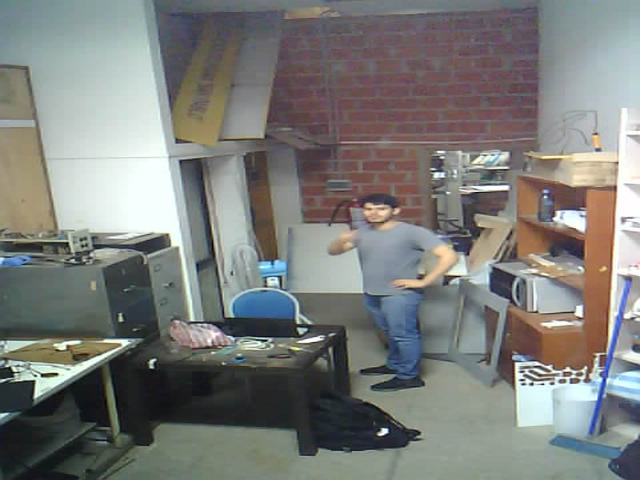person: (323, 192, 469, 404)
